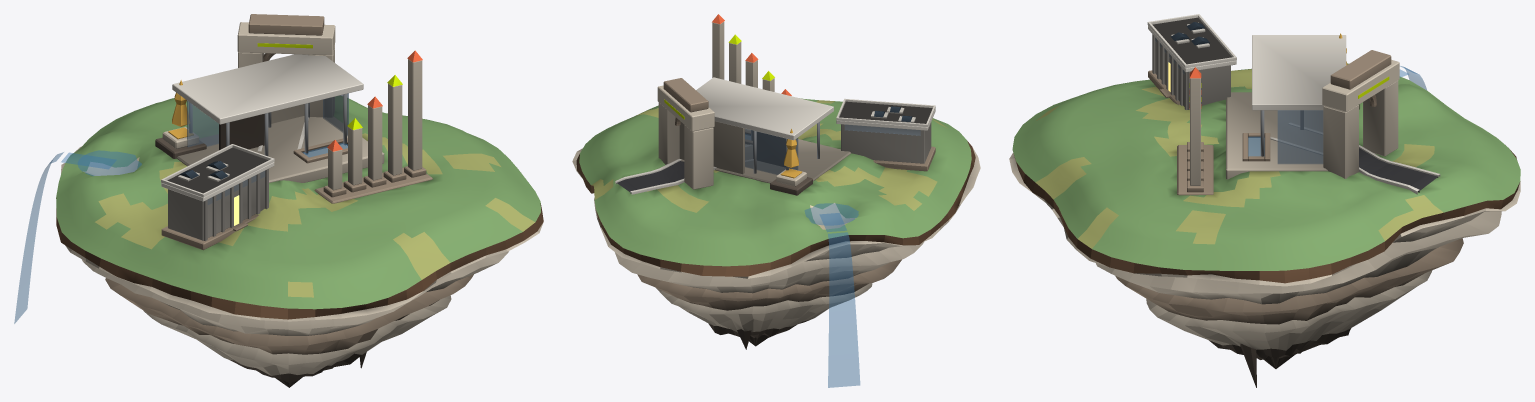
File: resume_lod1.glb
3 renders of one model, left to right at view 1: azimuth 30°, elevation 25°; view 2: azimuth 150°, elevation 25°; view 3: azimuth 270°, elevation 25°, orthographic. The views are drawn at different scales.
Visible parts, largest first — view 1: terrain, buildings, foundation, landmarks, props, waterfall_0, water_pond0, water_channel0; view 2: terrain, foundation, buildings, landmarks, waterfall_0, props, water_pond0, water_channel0; view 3: terrain, foundation, buildings, landmarks, props.
Boxes of the visible parts, <box> form: terrain: <box>56,96,540,309</box>; buildings: <box>155,54,426,250</box>; foundation: <box>56,146,543,387</box>; landmarks: <box>237,14,422,151</box>; props: <box>167,147,268,240</box>; waterfall_0: <box>14,152,63,323</box>; water_pond0: <box>77,150,141,176</box>; water_channel0: <box>61,152,115,168</box>; terrain: <box>579,98,971,266</box>; foundation: <box>572,141,980,349</box>; buildings: <box>679,21,935,195</box>; landmarks: <box>657,14,791,189</box>; waterfall_0: <box>828,232,860,387</box>; props: <box>839,101,932,123</box>; water_pond0: <box>804,203,858,225</box>; water_channel0: <box>820,213,846,232</box>; terrain: <box>1012,63,1520,270</box>; foundation: <box>1009,150,1520,387</box>; buildings: <box>1147,14,1359,192</box>; landmarks: <box>1189,50,1399,178</box>; props: <box>1152,17,1231,109</box>.
Bounding box in the file's own units: 15.88 × 12.42 × 16.76.
